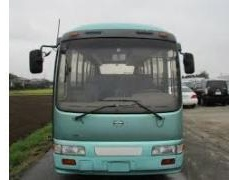bus: (30, 19, 194, 175)
